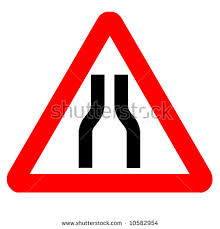Narrow_road: (7, 10, 217, 195)
